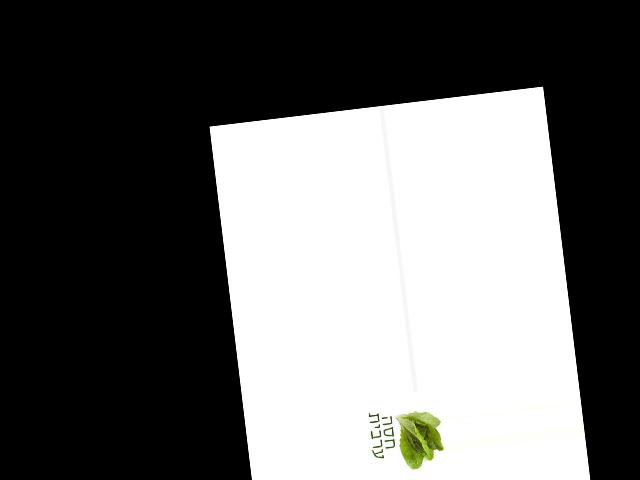lettuce: (389, 405, 445, 472)
